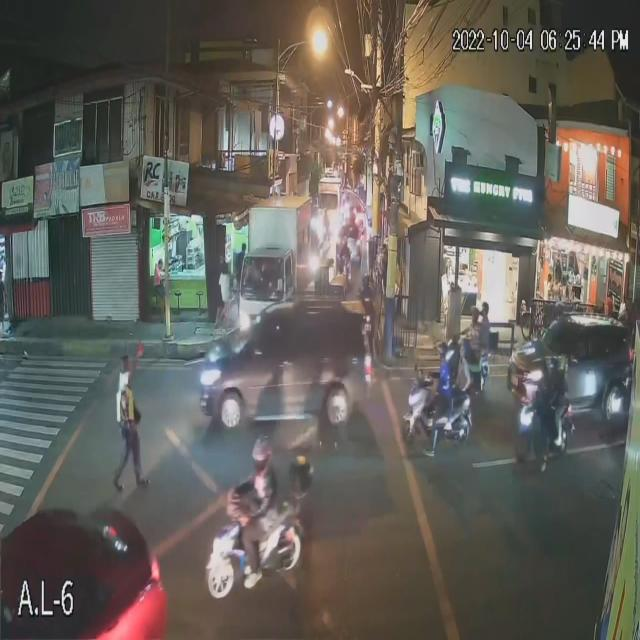Full-Faced: (250, 429, 275, 476), (542, 352, 558, 379), (360, 269, 370, 289)
Half-Faced: (432, 336, 448, 367)
Not-Wearing-Helmet: (470, 303, 481, 327), (480, 300, 491, 322)
